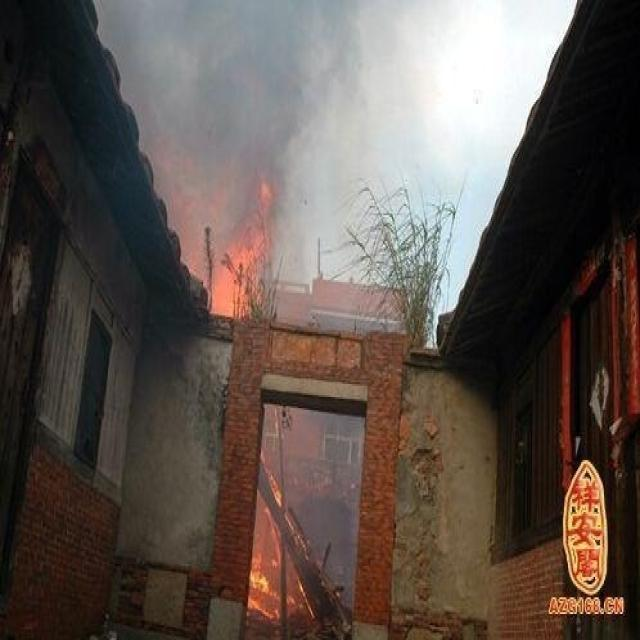Fire: (246, 448, 316, 624), (208, 178, 274, 322)
Smoke: (104, 2, 368, 284), (262, 406, 366, 605)
